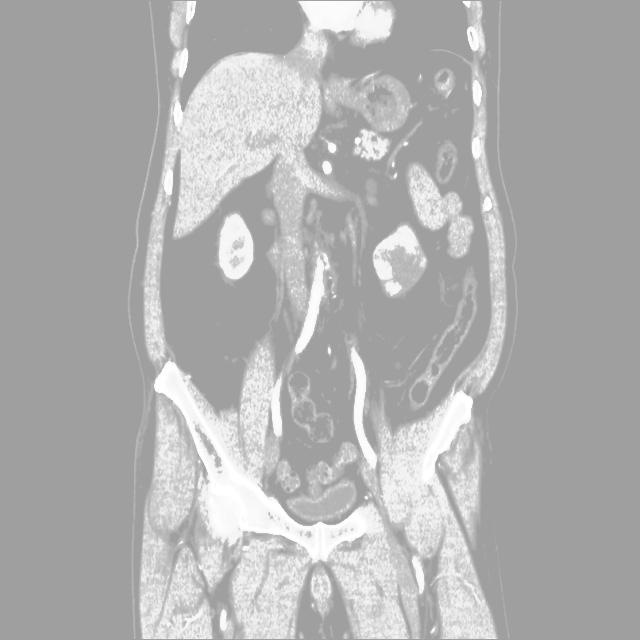TUMOR: (183, 208, 558, 346)
